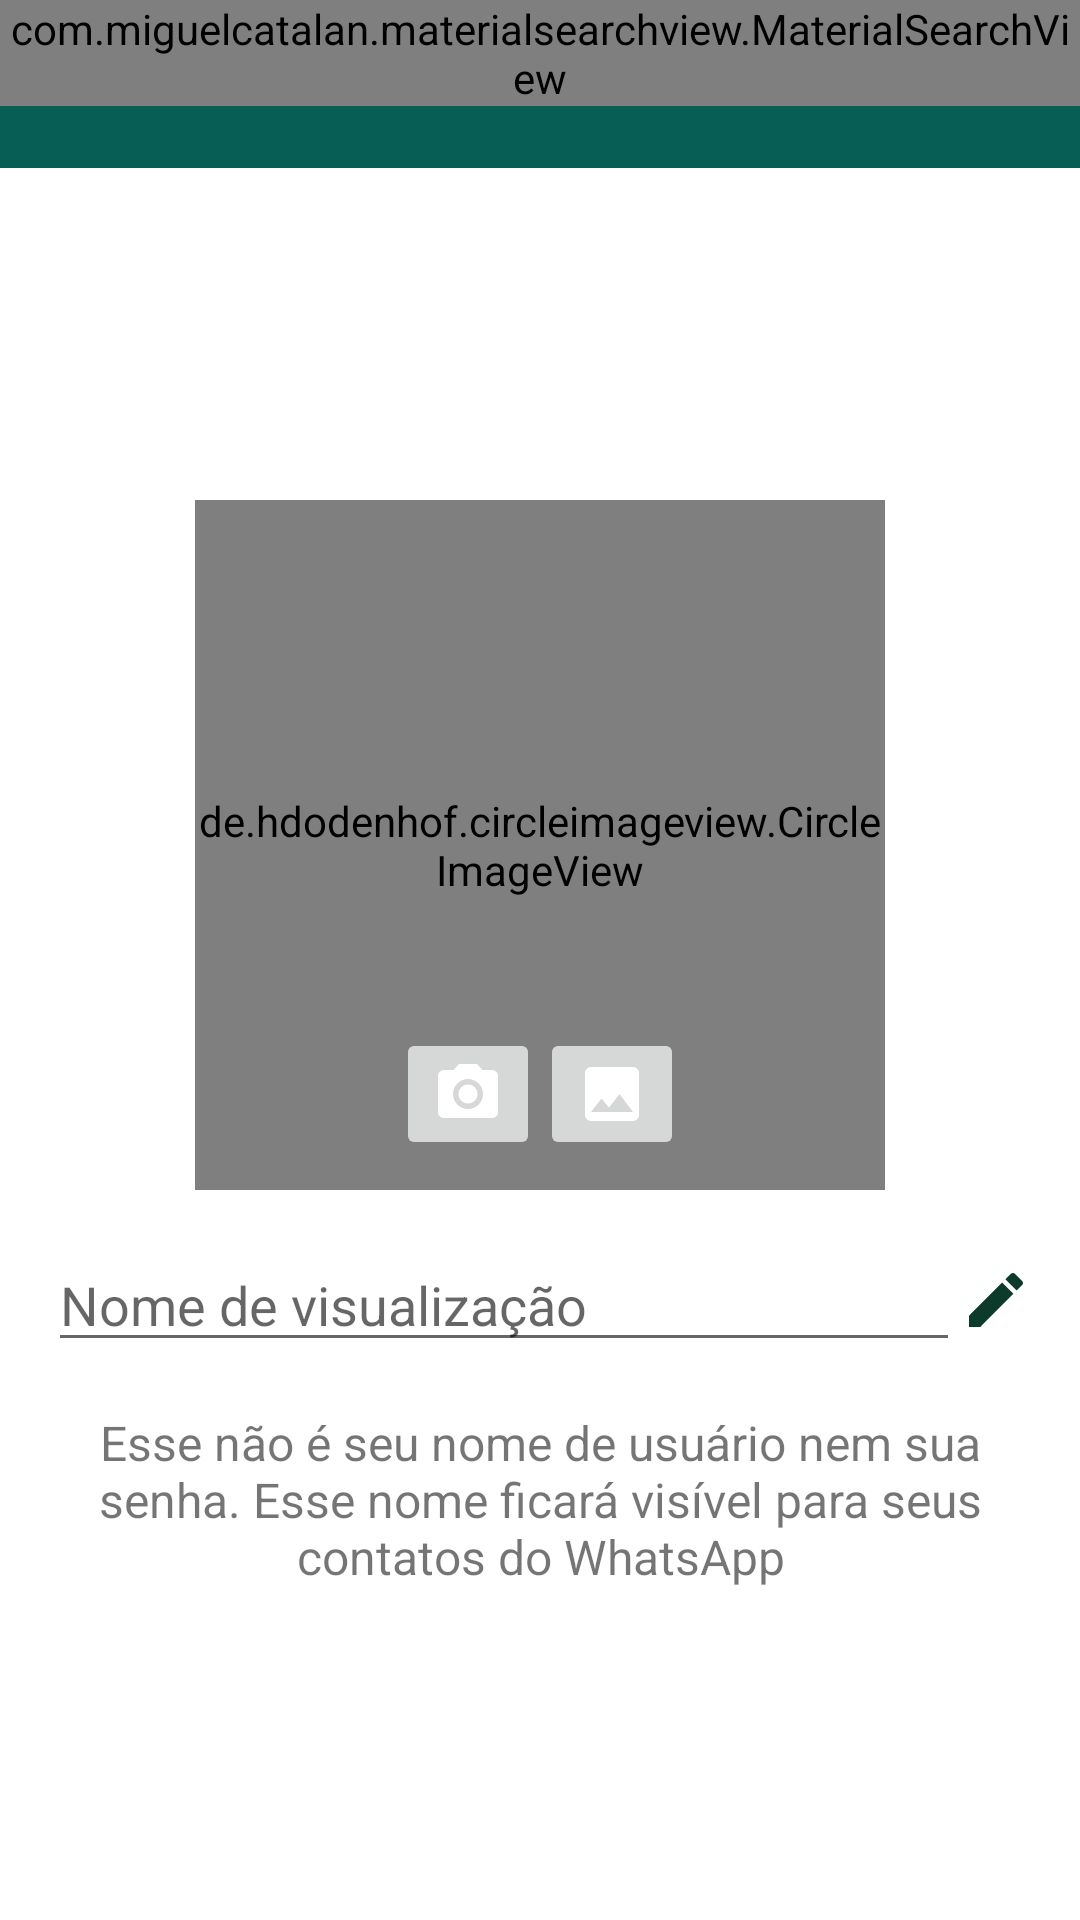

Screen size 1080 x 1920. Icon name, then its box in pixels as bbox=(x1, y1, x2, y2):
edit: bbox=(969, 1273, 1023, 1327)
photo: bbox=(552, 1046, 672, 1142)
photo camera: bbox=(408, 1046, 528, 1142)
